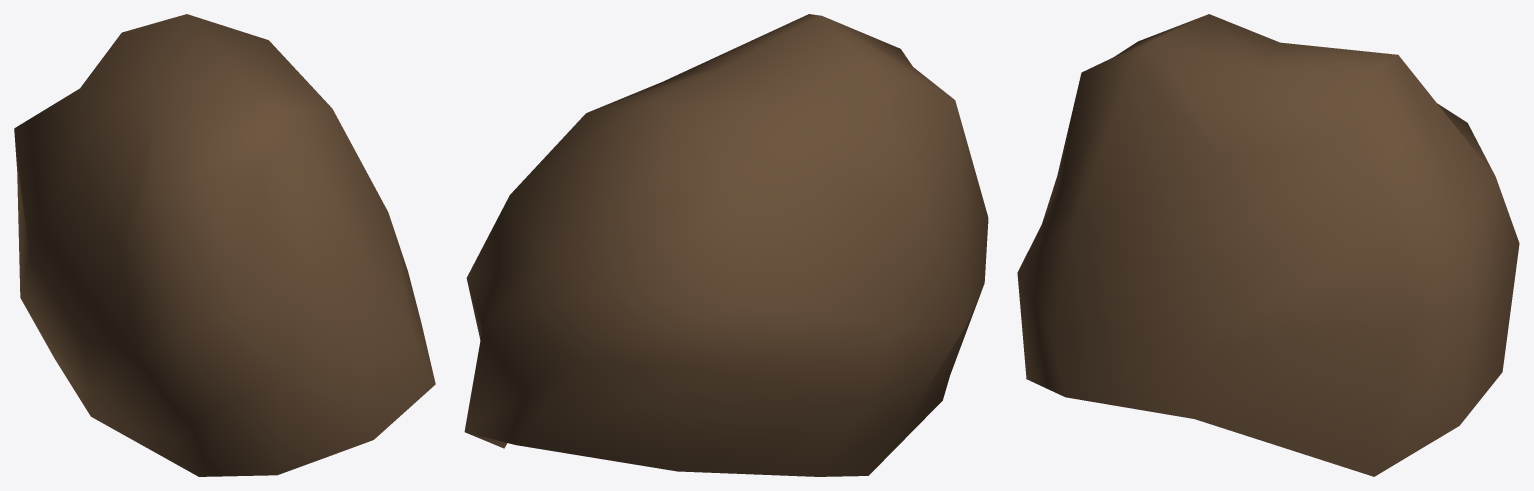
File: shituo2.FBX
3 views of the same model, side by side, from view 1: azimuth 30°, elevation 25°; view 2: azimuth 150°, elevation 25°; view 3: azimuth 270°, elevation 25° (orthographic). The views are drawn at different scales.
Parts seen in each view (by area): view 1: 对象005; view 2: 对象005; view 3: 对象005.
Part boxes in pixels (bbox=[...]): 对象005: bbox=[14, 14, 435, 476]; 对象005: bbox=[464, 14, 988, 476]; 对象005: bbox=[1017, 14, 1519, 476].
Size of the model in its own units: 2.05 by 2.03 by 2.62.
